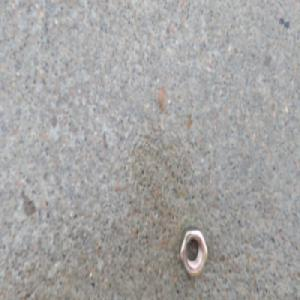Nut: (176, 227, 209, 280)
